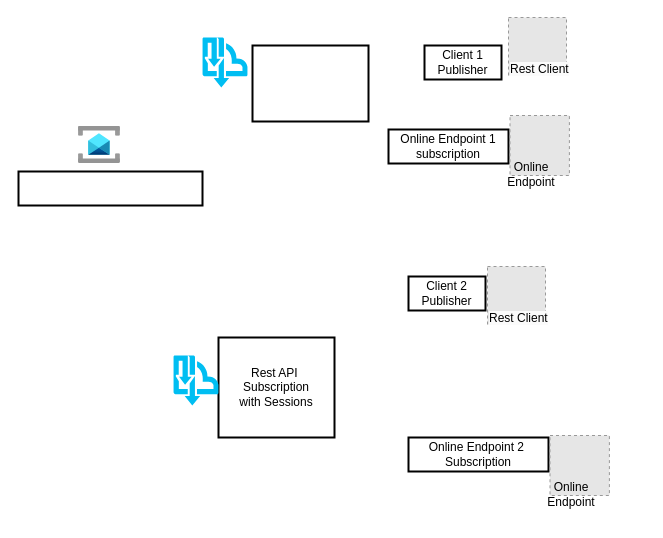
This 663x538 diagram has some shape labels left out. Grey dashed boxes stand in for pictures. The shapes that lost their labels are listed below. From the top down, each one's box as (x1, y1, x2, y2) in pixels, then its label:
(251, 44, 369, 122): ML Endpoint Subscripition No Sessions
(17, 170, 203, 206): Azure Service Bus Topic
